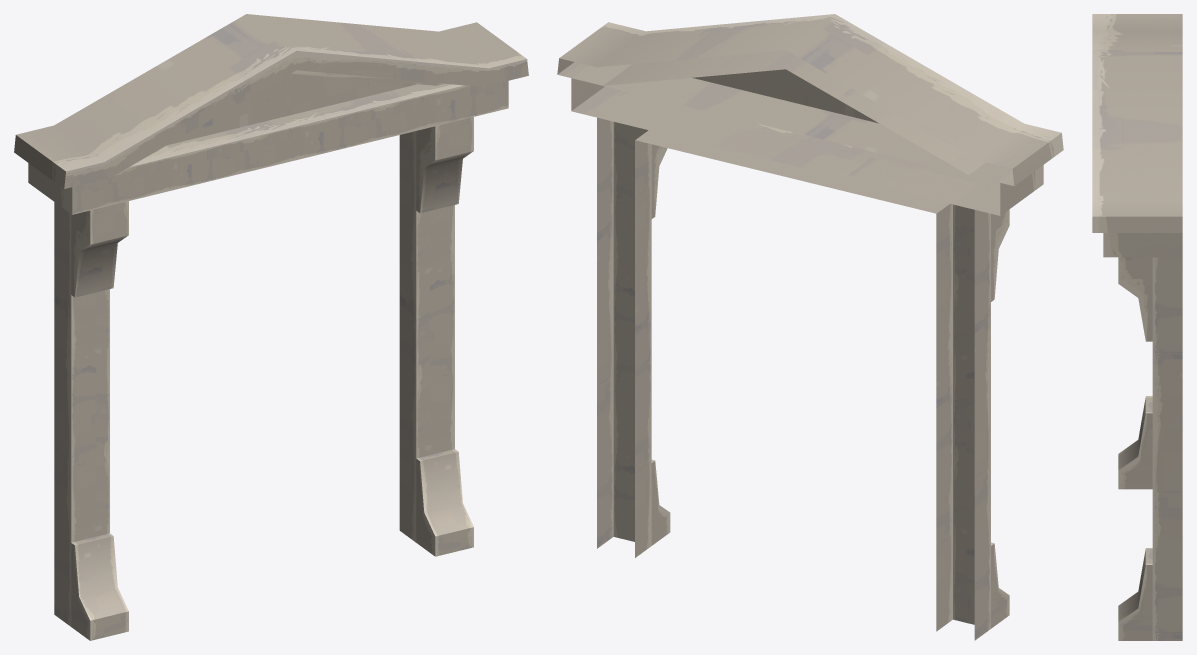
File: MOD_Door_03_framedeco_02_03.fbx
3 views of the same model, side by side, from view 1: azimuth 30°, elevation 25°; view 2: azimuth 150°, elevation 25°; view 3: azimuth 270°, elevation 25° (orthographic). The views are drawn at different scales.
Visible parts, largest first — view 1: MOD_Door_03_framedeco_02_03; view 2: MOD_Door_03_framedeco_02_03; view 3: MOD_Door_03_framedeco_02_03.
Boxes of the visible parts, bbox=[...] form: MOD_Door_03_framedeco_02_03: bbox=[14, 14, 528, 640]; MOD_Door_03_framedeco_02_03: bbox=[557, 14, 1063, 640]; MOD_Door_03_framedeco_02_03: bbox=[1092, 14, 1182, 640].
Size of the model in its own units: 295 by 336 by 55.27.
